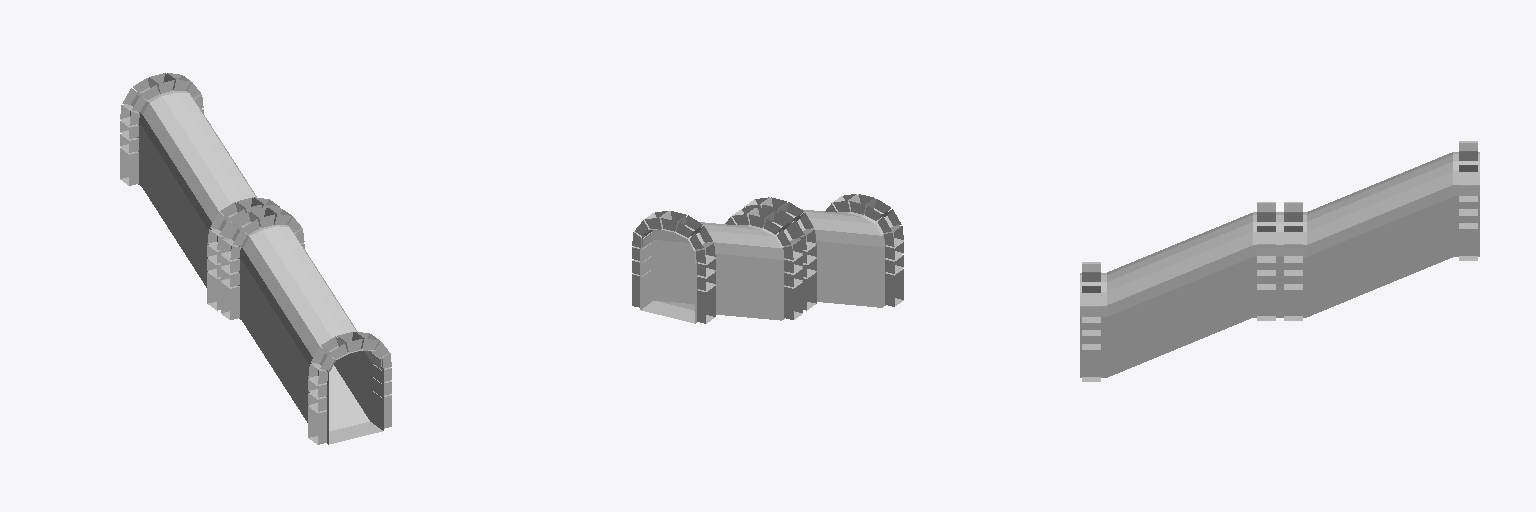
The picture shows the model from 3 angles: view 1: azimuth 30°, elevation 25°; view 2: azimuth 150°, elevation 25°; view 3: azimuth 270°, elevation 25°; orthographic projection.
Parts seen in each view (by area): view 1: objobjobjDuplicate02; view 2: objobjobjDuplicate02; view 3: objobjobjDuplicate02.
Part boxes in pixels (x1,y1,x2,y2): objobjobjDuplicate02: (120, 73, 391, 444); objobjobjDuplicate02: (632, 194, 903, 323); objobjobjDuplicate02: (1080, 141, 1479, 381).
Size of the model in its own units: 6.44 by 17.98 by 30.